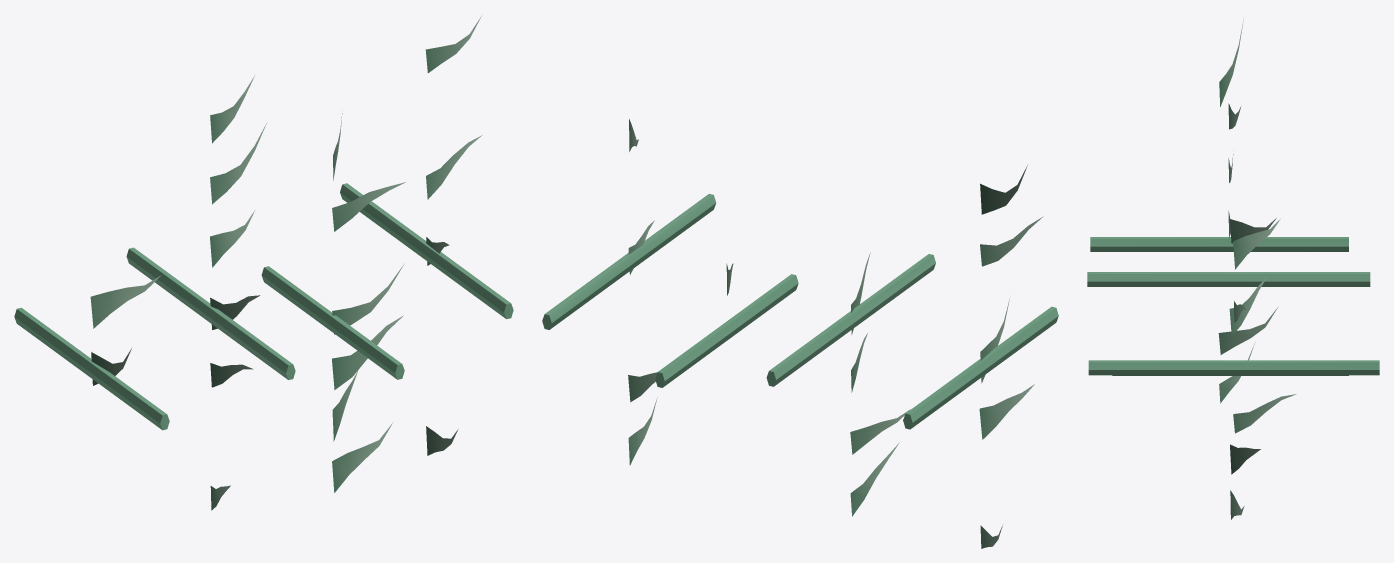
The model's file is mesh-plant-045-bamboo-stem_LOD1.glb.
3 renders of one model, left to right at view 1: azimuth 30°, elevation 25°; view 2: azimuth 150°, elevation 25°; view 3: azimuth 270°, elevation 25°, orthographic. The views are drawn at different scales.
Parts seen in each view (by area): view 1: geometry_0; view 2: geometry_0; view 3: geometry_0.
Boxes of the visible parts, left/top/right/bottom form: geometry_0: left=14, top=16, right=513, bottom=510; geometry_0: left=542, top=119, right=1058, bottom=548; geometry_0: left=1087, top=18, right=1379, bottom=519.
Size of the model in its own units: 1.95 by 1.78 by 1.19.
